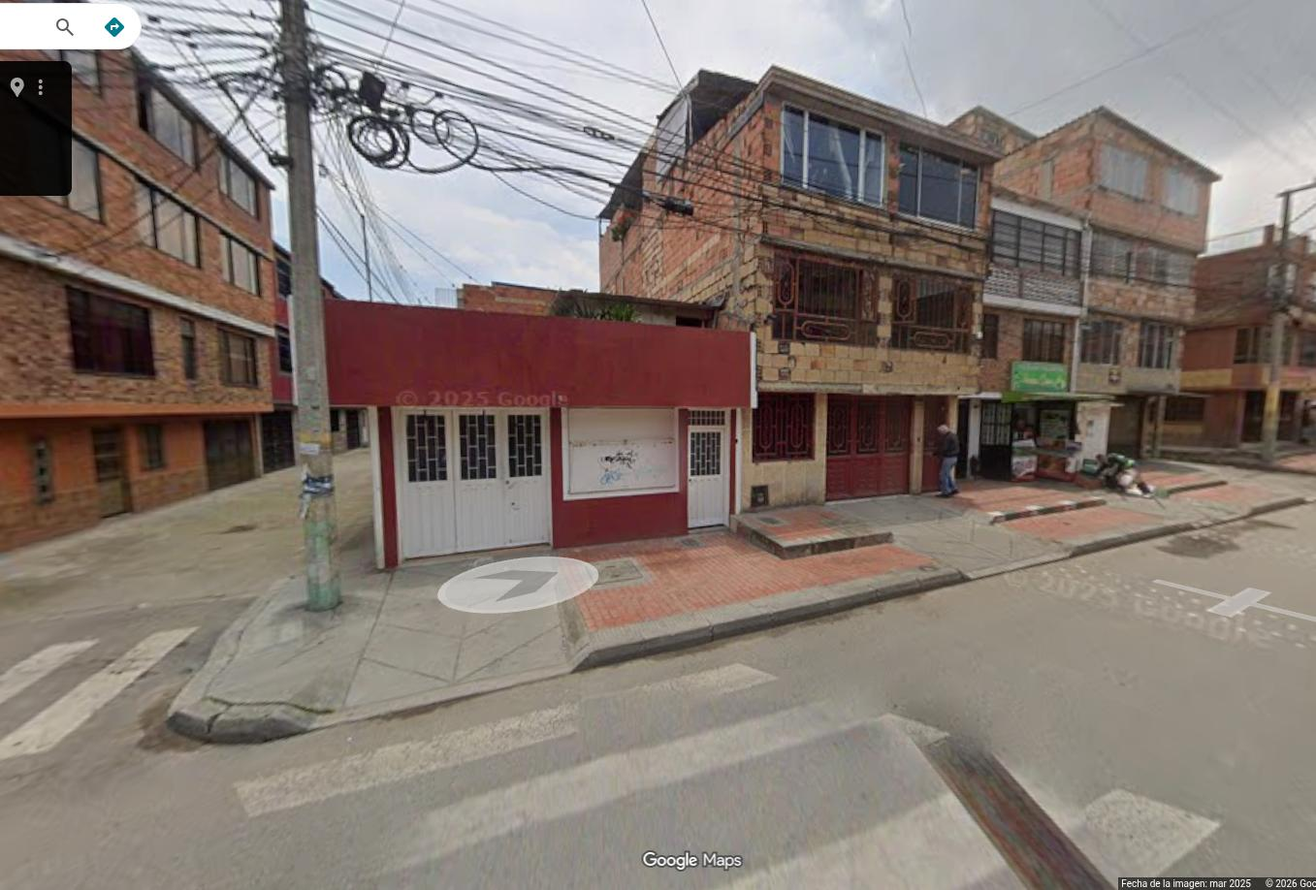casa: (599, 68, 998, 508), (0, 49, 285, 551), (326, 302, 754, 567), (951, 106, 1219, 455), (959, 189, 1114, 479)
poste: (280, 0, 341, 612), (1262, 180, 1315, 463)
